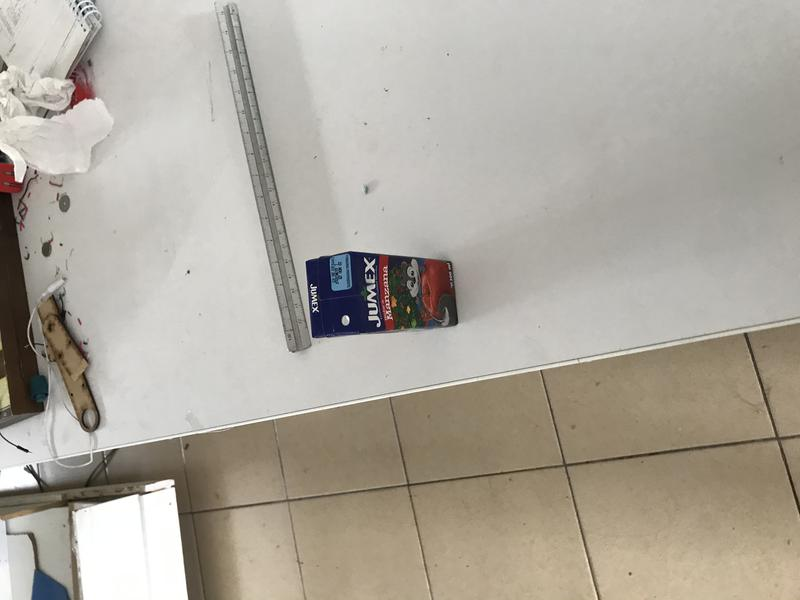jumex_cajita: (306, 251, 459, 341)
